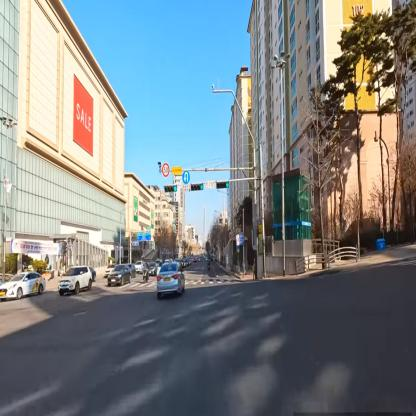Green: (164, 184, 178, 192), (192, 182, 204, 191), (217, 180, 230, 188)
